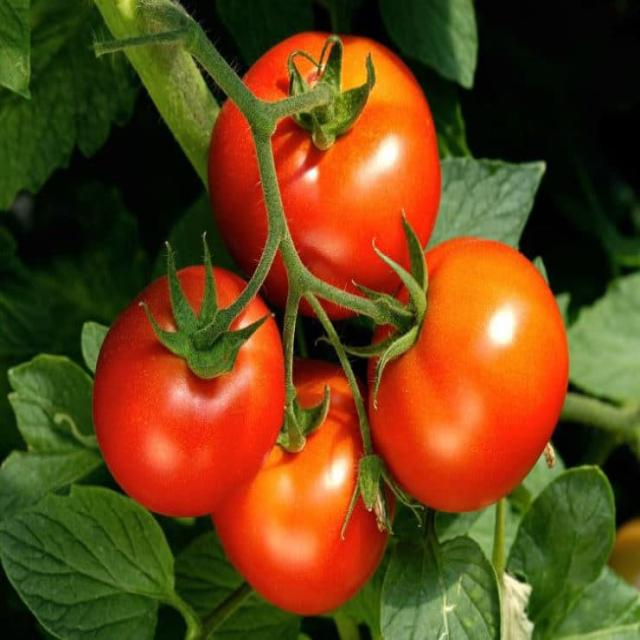kirmizi: (31, 236, 302, 521)
sari: (378, 214, 569, 530)
